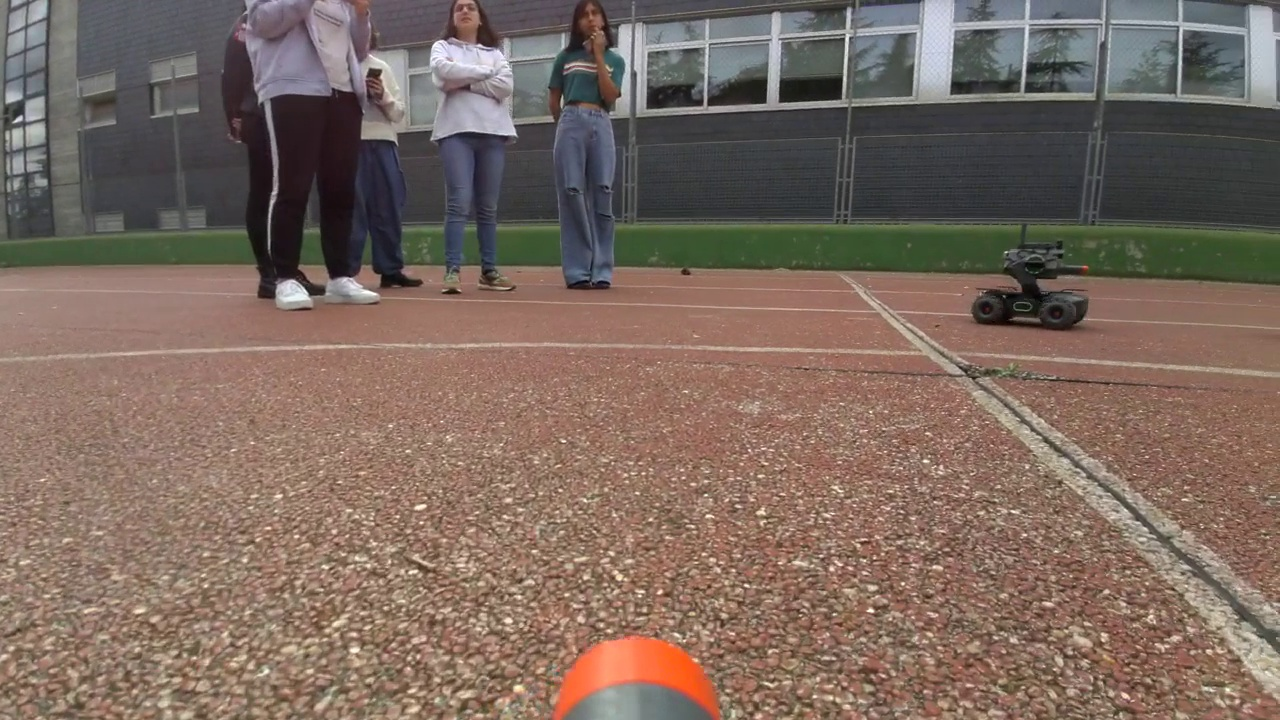robot: (973, 239, 1088, 331)
